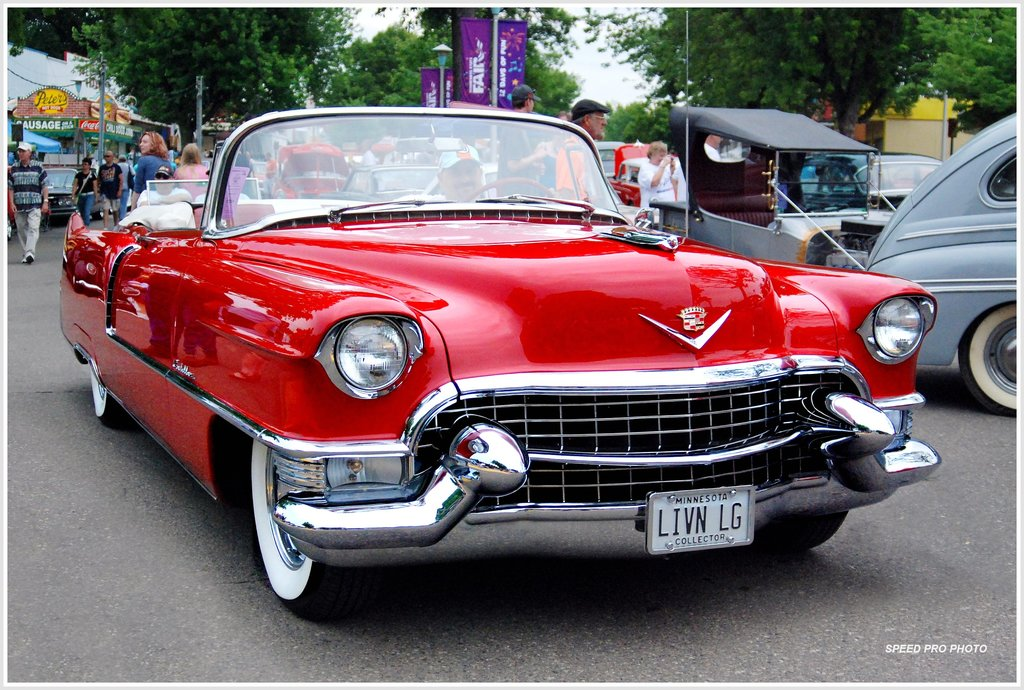Car: (56, 103, 942, 613), (863, 108, 1023, 415), (797, 149, 940, 213), (246, 142, 346, 197), (320, 160, 448, 200), (45, 164, 82, 211)
